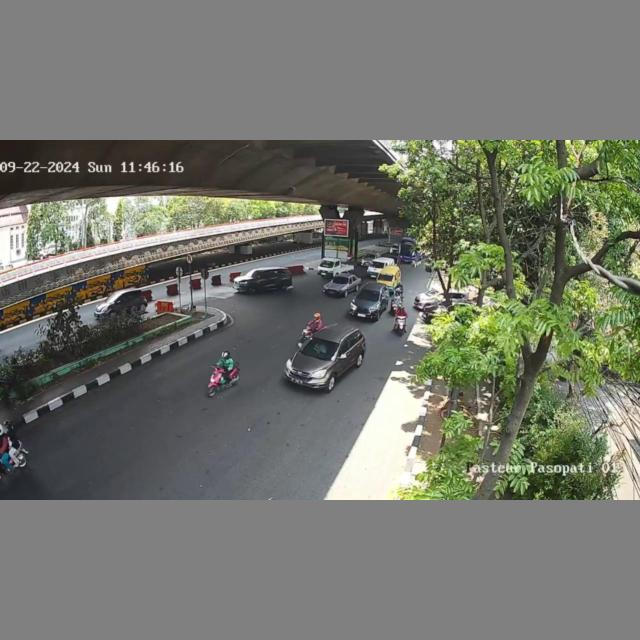windshield: (300, 337, 339, 359), (357, 288, 380, 301), (377, 271, 394, 282), (332, 276, 348, 284), (321, 261, 335, 268)
